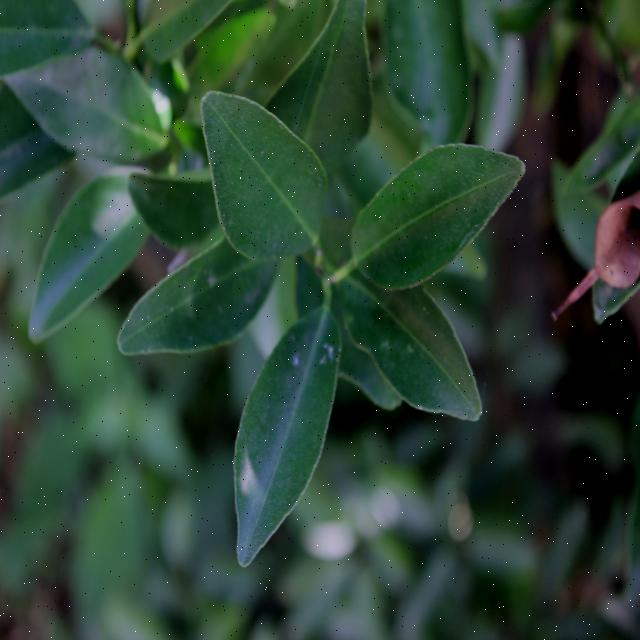healthy: (233, 307, 341, 564), (349, 142, 522, 294), (202, 89, 325, 263)
